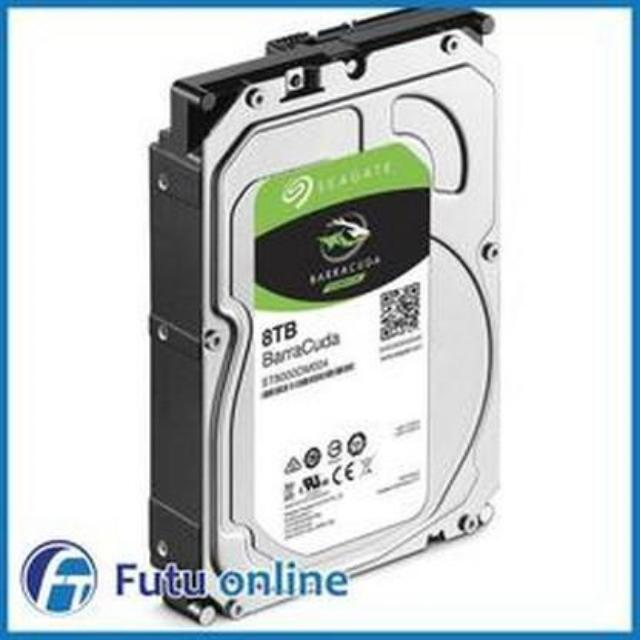DISK: (131, 0, 514, 622)
